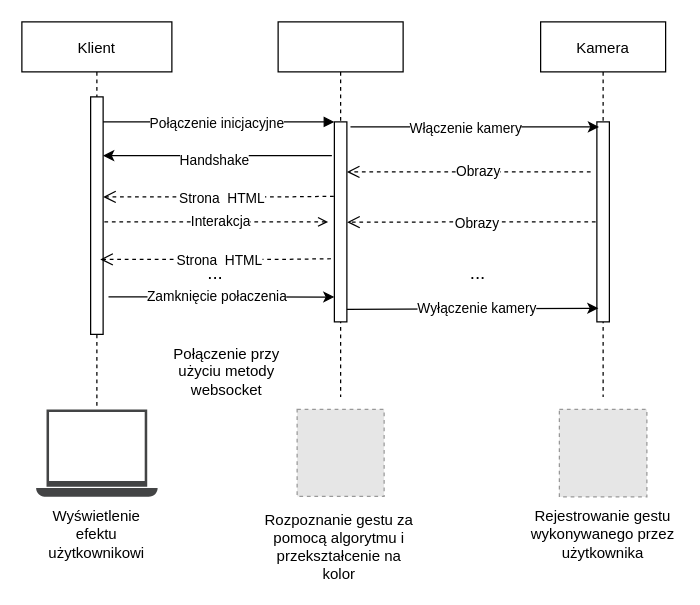
Image size: 700x605. Some labels were removed from this diagram. Grey dashed boxes stand in for pictures. The box of each missing label's shape, as (x1, y1, x2, y2) in pixels:
Localhost: (36, 409, 157, 496)
Serwer: (277, 21, 403, 397)
